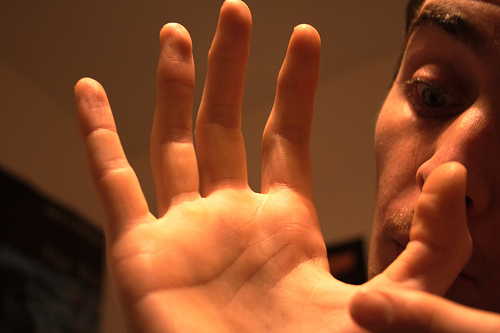palm: (125, 189, 356, 329)
